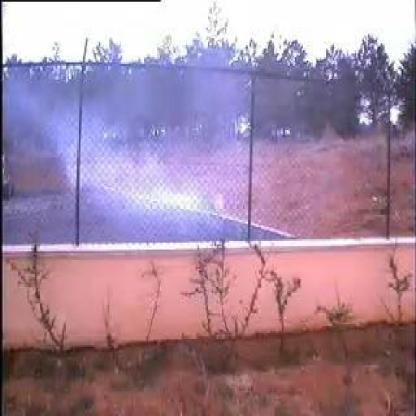-: (79, 68, 253, 241)
